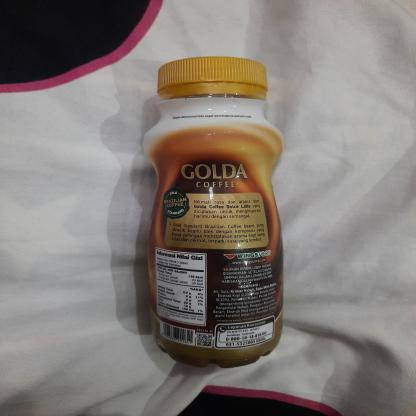plastic: (137, 54, 290, 371)
